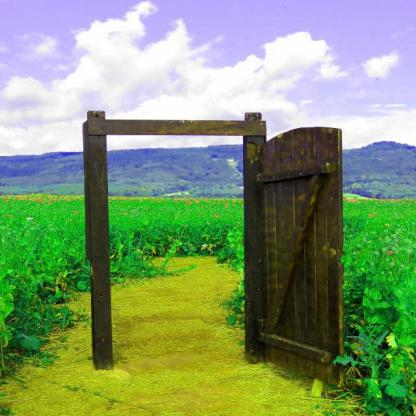door: (72, 104, 352, 396)
